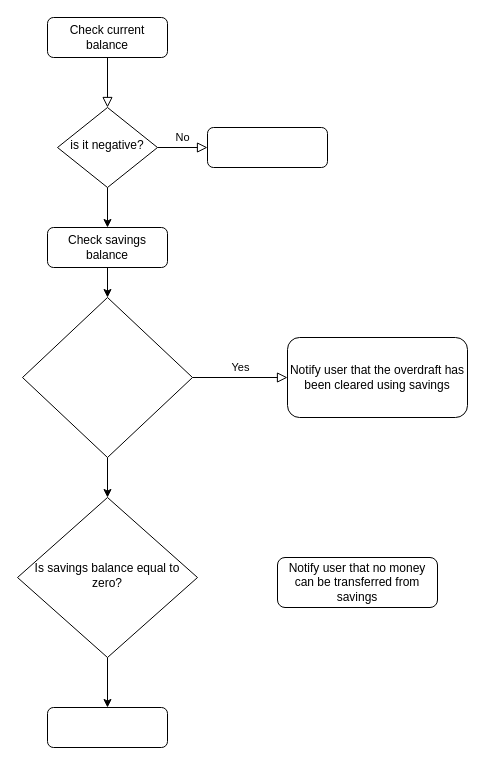
The diagram is 485 pixels wide and 766 high, and some of its shapes have lost their labels. The centre of each missing label's shape, as x and y in pixels:
"Continue" belongs at (x=267, y=147).
"Is the savings balance greater or equal to the debt" belongs at (x=107, y=377).
"Transfer savings balance to current balance" belongs at (x=107, y=727).
